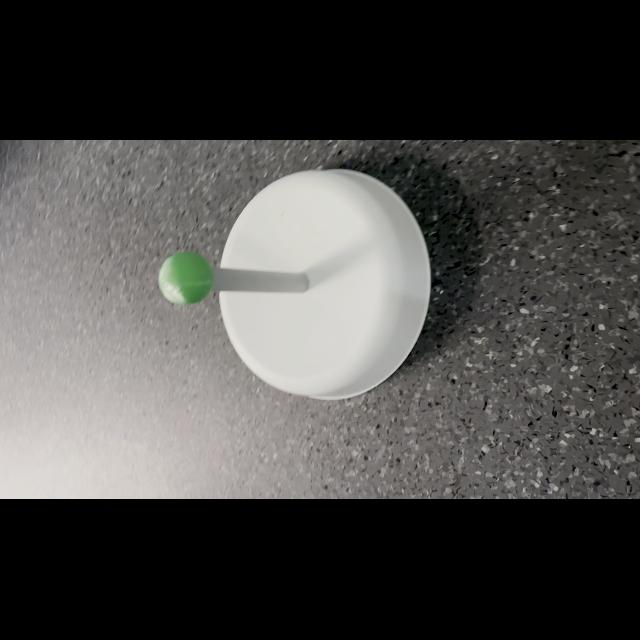objects: (153, 246, 220, 308)
